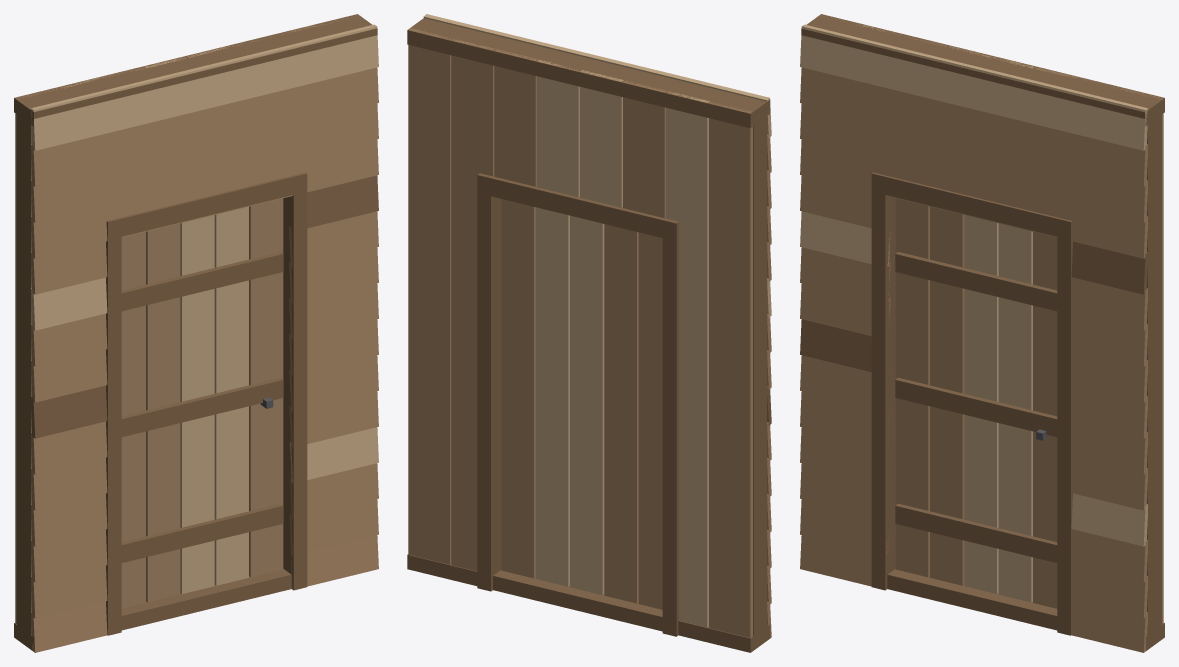
File: SM_Wall_Plank_Door.glb
3 views of the same model, side by side, from view 1: azimuth 30°, elevation 25°; view 2: azimuth 150°, elevation 25°; view 3: azimuth 330°, elevation 25° (orthographic).
Parts seen in each view (by area): view 1: SM_Wall_Plank_Door; view 2: SM_Wall_Plank_Door; view 3: SM_Wall_Plank_Door.
Part boxes in pixels (x1,y1,x2,y2): SM_Wall_Plank_Door: (14,14,378,652); SM_Wall_Plank_Door: (407,14,771,652); SM_Wall_Plank_Door: (800,14,1164,652).
Size of the model in its own units: 2 by 3.01 by 0.24.
